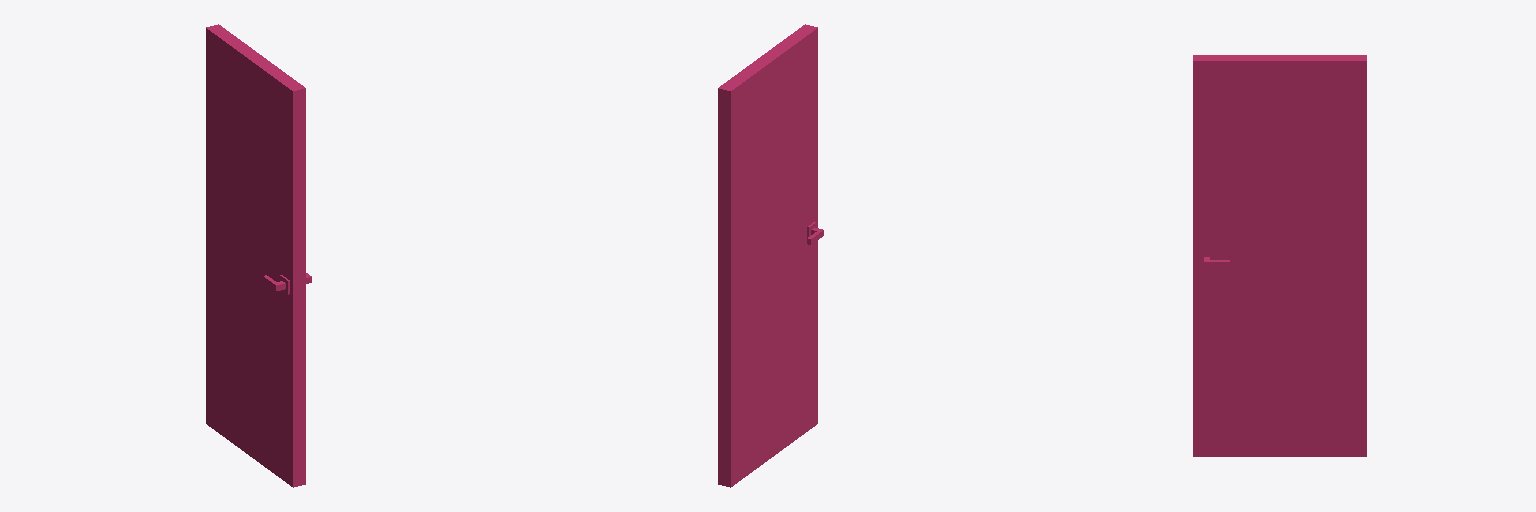
File: dvery3.obj
3 views of the same model, side by side, from view 1: azimuth 30°, elevation 25°; view 2: azimuth 150°, elevation 25°; view 3: azimuth 270°, elevation 25° (orthographic).
Visible parts, largest first — view 1: Cube_door; view 2: Cube_door; view 3: Cube_door.
Boxes of the visible parts, x1=… form: Cube_door: x1=206, y1=24, x2=311, y2=487; Cube_door: x1=718, y1=24, x2=823, y2=487; Cube_door: x1=1193, y1=55, x2=1366, y2=456.
Bounding box in the file's own units: 0.1899 × 2 × 0.7997.